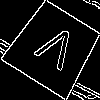V: (28, 23, 81, 79)
